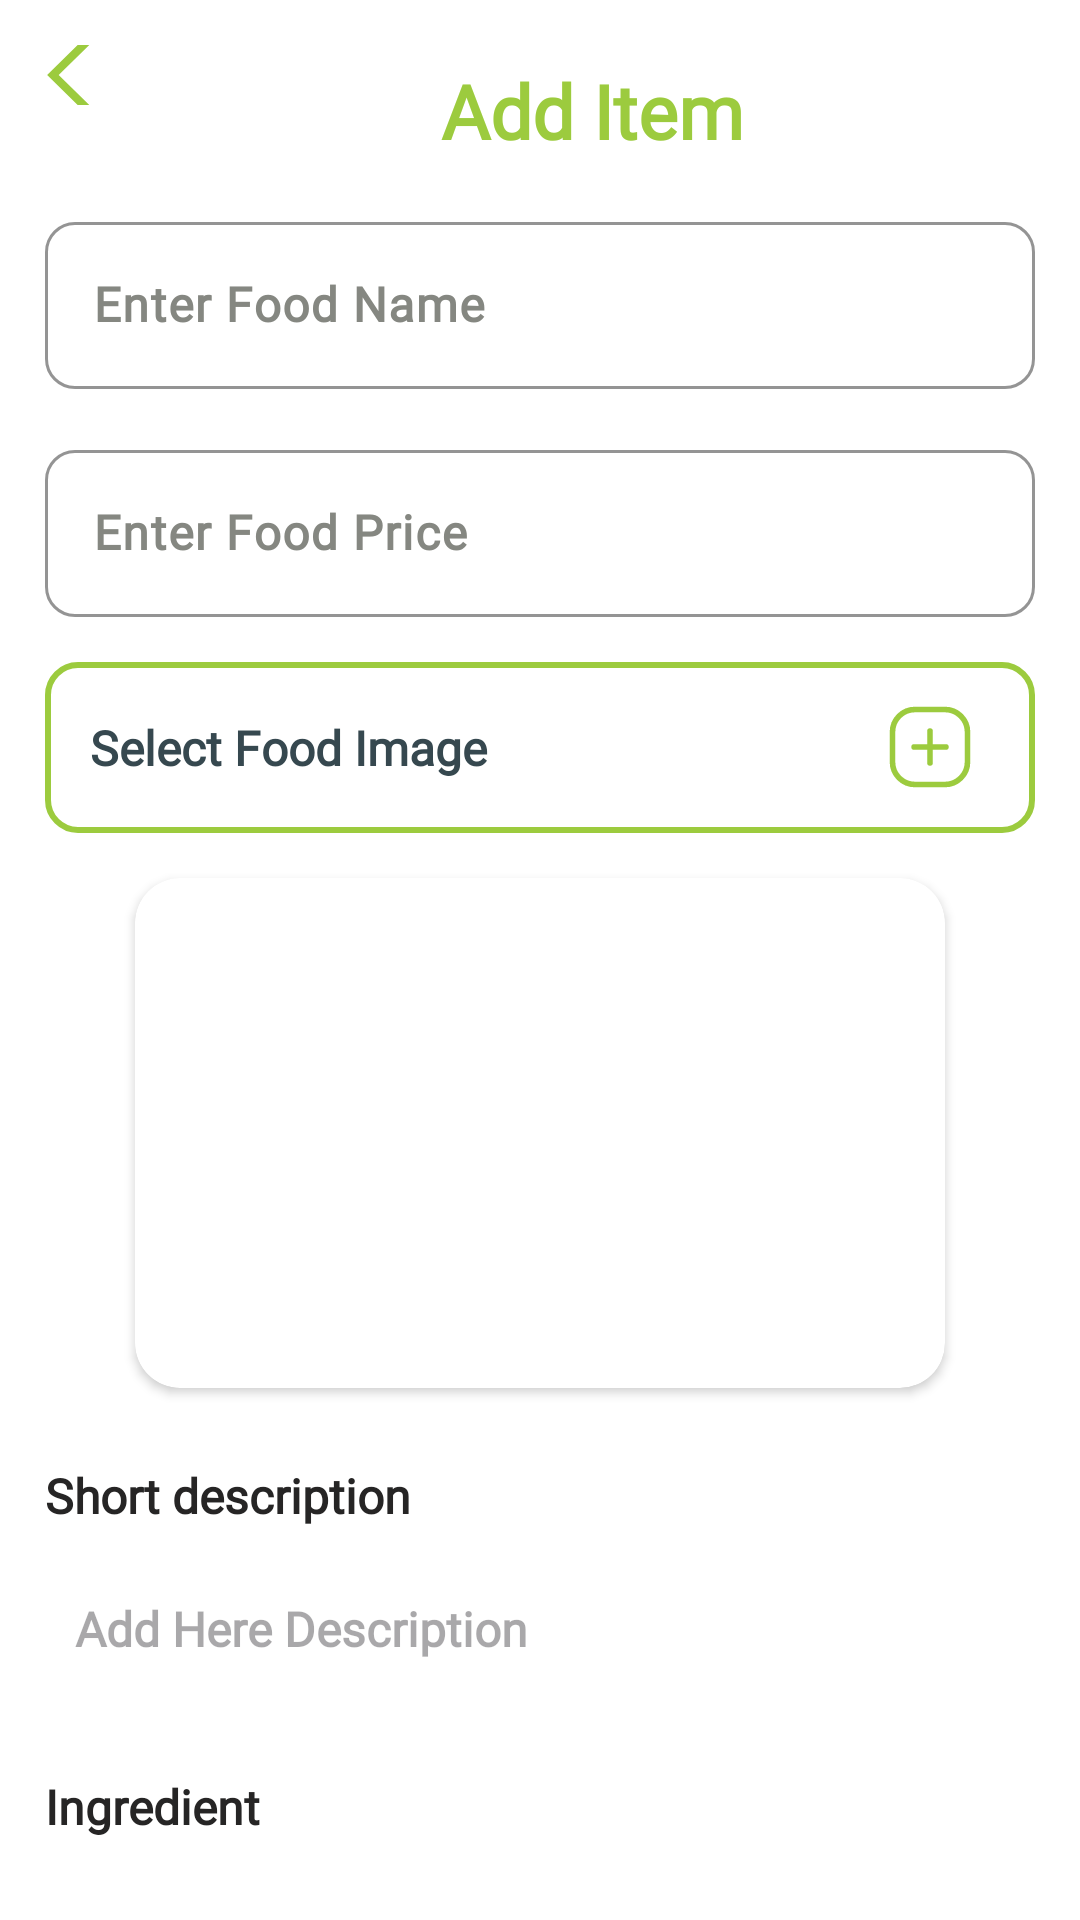

Screen size 1080x1920. Icon name, then its box in pixels as box(x1, y1, x2, y2):
backarrow: box(47, 45, 89, 105)
